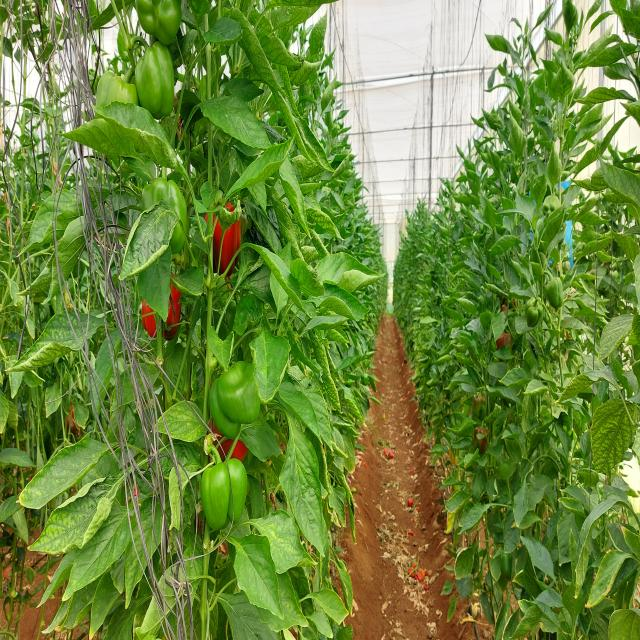Green--Not-ready-to-harvest: (206, 366, 263, 440), (141, 172, 187, 255), (134, 47, 178, 127), (202, 464, 248, 531), (105, 64, 134, 150), (135, 1, 181, 44)
Red-Ready-to-Harvest: (138, 264, 185, 341), (204, 190, 242, 280)
